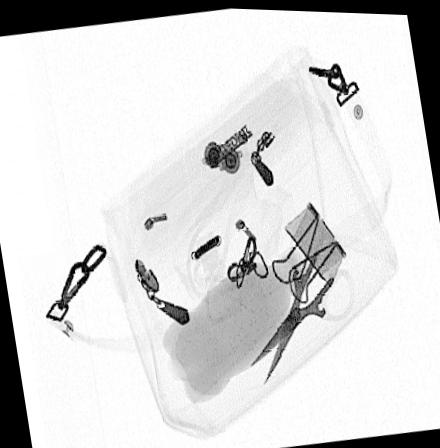Scissors: (247, 212, 357, 384)
